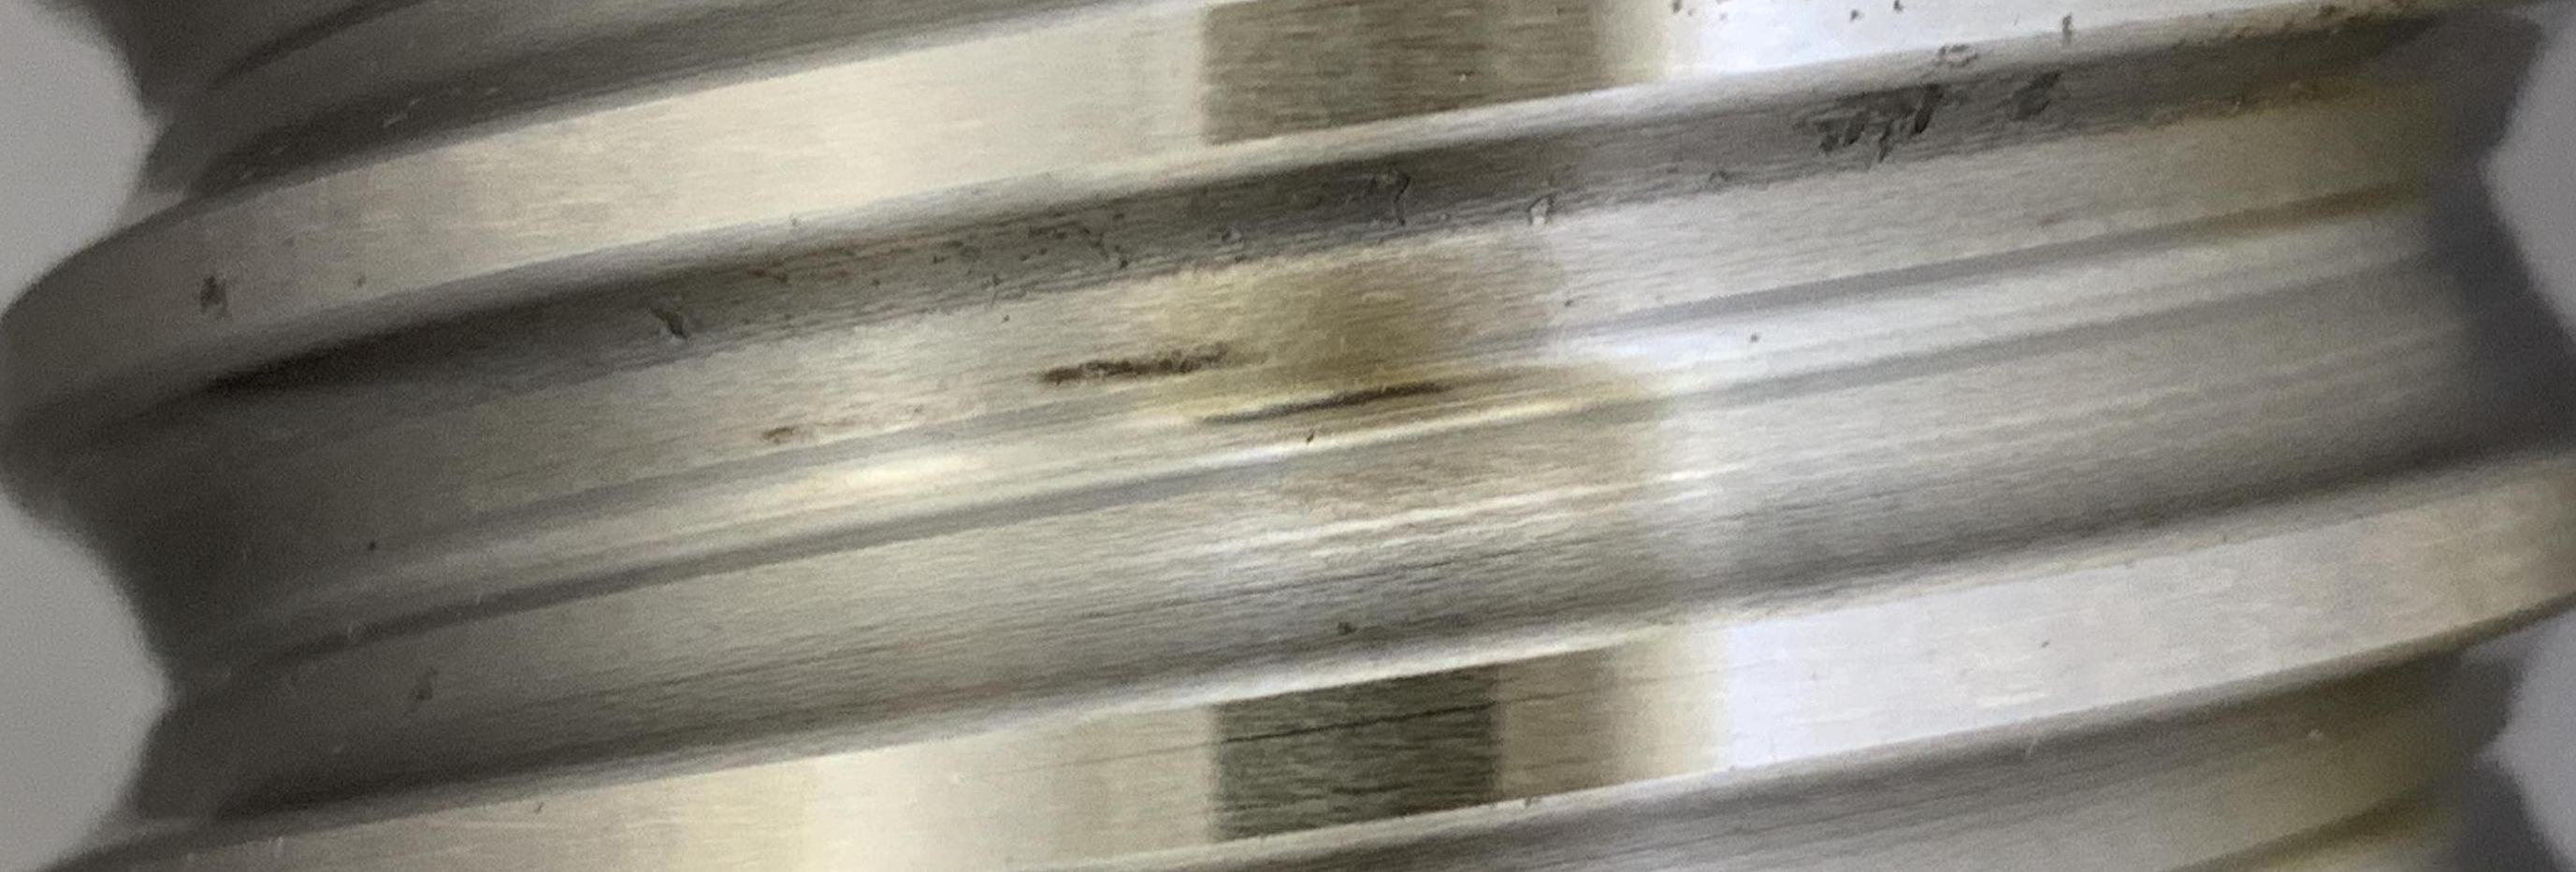pitting: (1812, 84, 1950, 163), (1996, 71, 2065, 122), (1380, 166, 1411, 225), (649, 307, 687, 338)
